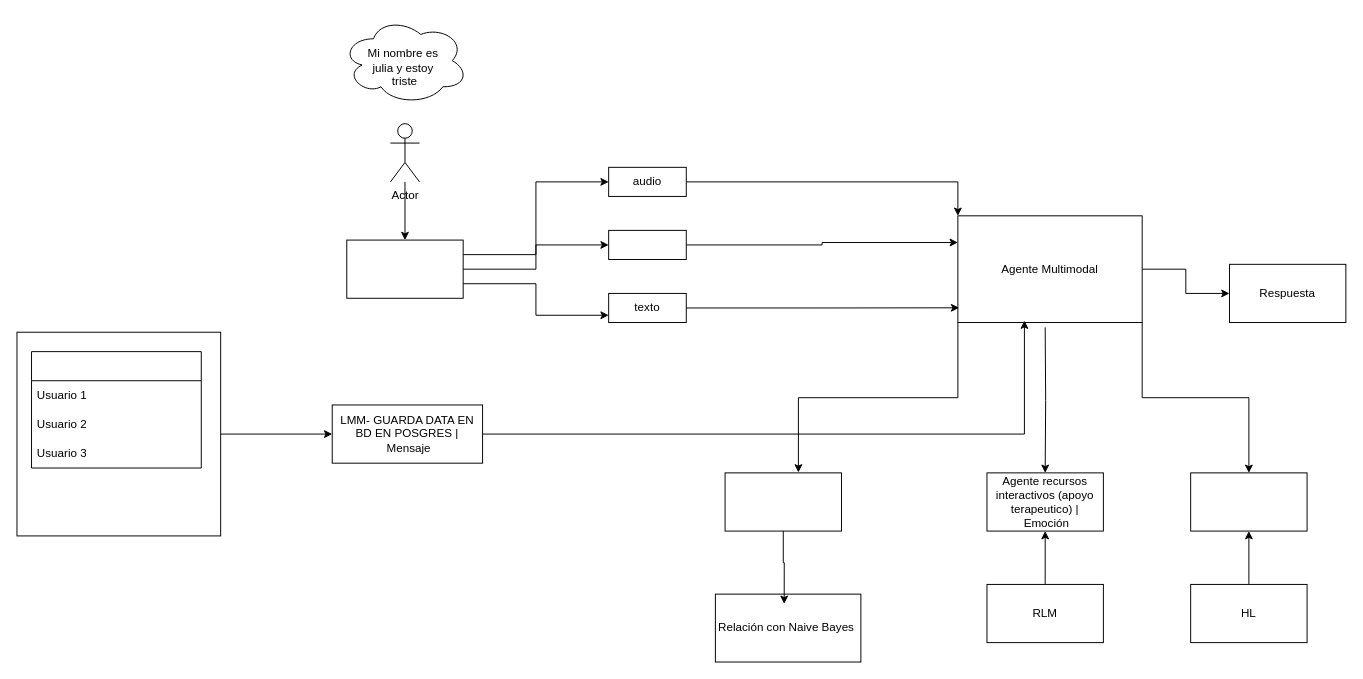
Image size: 1363x679. Some labels were removed from this diagram. The shapes that lost their labels are listed below. From the top down, each one's box as (x1, y1, x2, y2) in pixels, then its label:
(608, 229, 686, 259): imagen
(346, 239, 463, 298): APP WEB
(31, 351, 201, 468): PANEL DE CONTROL
(724, 472, 841, 531): Agente analisis de datos | AlmaIA
(1190, 472, 1307, 531): Agente base de datos | SesionTerapia
